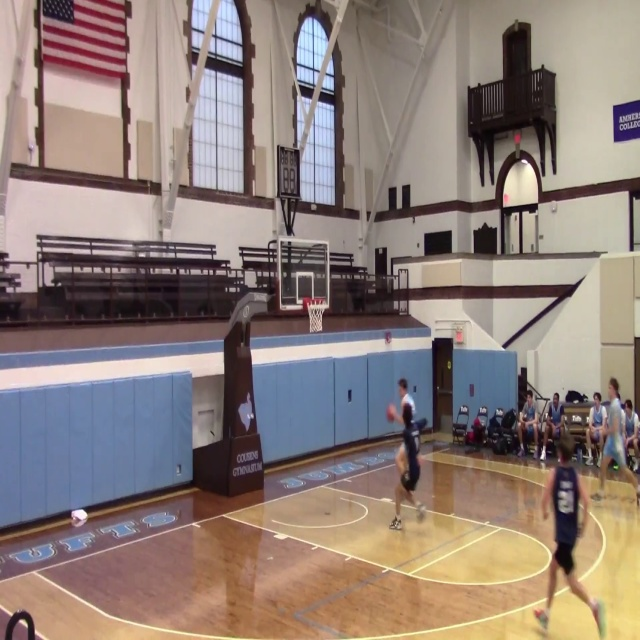Basketball: (395, 445, 409, 474), (71, 509, 88, 527), (386, 404, 395, 422)
